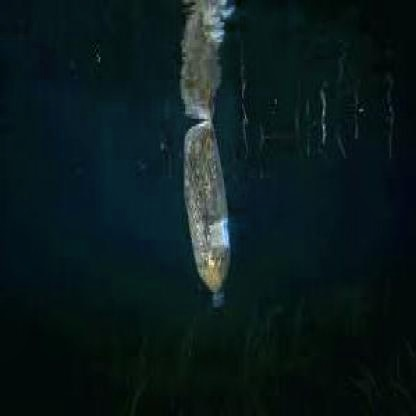pbottle: (175, 109, 238, 312)
